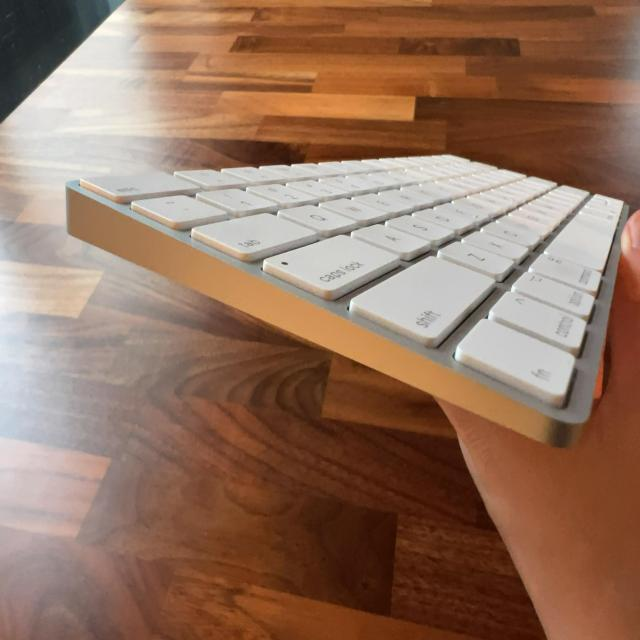keyboard: (68, 154, 622, 453)
